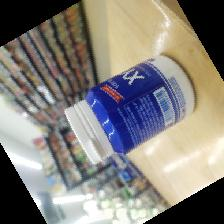Xylitol_blue: (62, 54, 197, 167)
